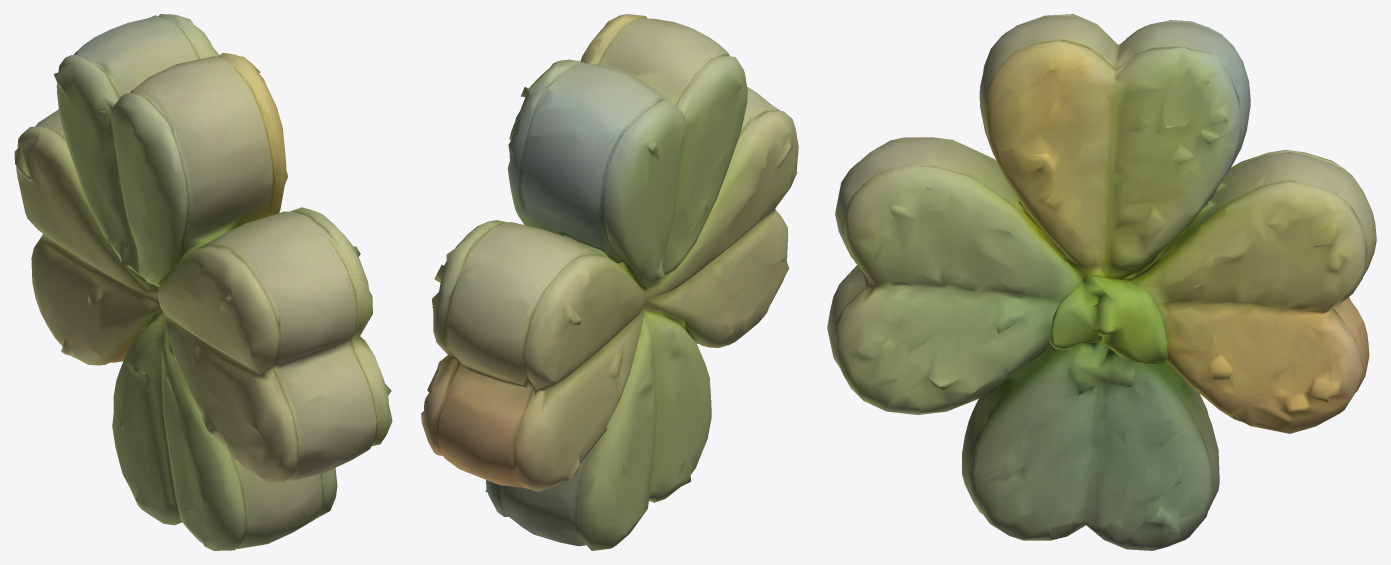
Rendered from clover.glb.
The picture shows the model from 3 angles, left to right: view 1: azimuth 30°, elevation 25°; view 2: azimuth 150°, elevation 25°; view 3: azimuth 270°, elevation 25°; orthographic projection.
Parts seen in each view (by area): view 1: tripo_node_a669e2d2-01fe-4693-b28c-cea911084e63; view 2: tripo_node_a669e2d2-01fe-4693-b28c-cea911084e63; view 3: tripo_node_a669e2d2-01fe-4693-b28c-cea911084e63.
Part boxes in pixels (x1=…): tripo_node_a669e2d2-01fe-4693-b28c-cea911084e63: x1=14, y1=14, x2=392, y2=550; tripo_node_a669e2d2-01fe-4693-b28c-cea911084e63: x1=421, y1=14, x2=798, y2=550; tripo_node_a669e2d2-01fe-4693-b28c-cea911084e63: x1=827, y1=14, x2=1376, y2=550.
Size of the model in its own units: 0.4062 by 0.9948 by 1.
Materials: 1 (1 with a texture image).
